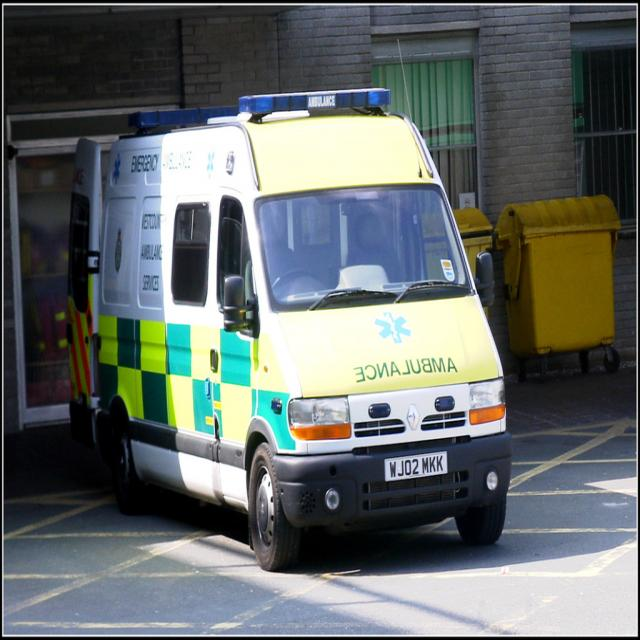Ambulance: (65, 40, 513, 573)
